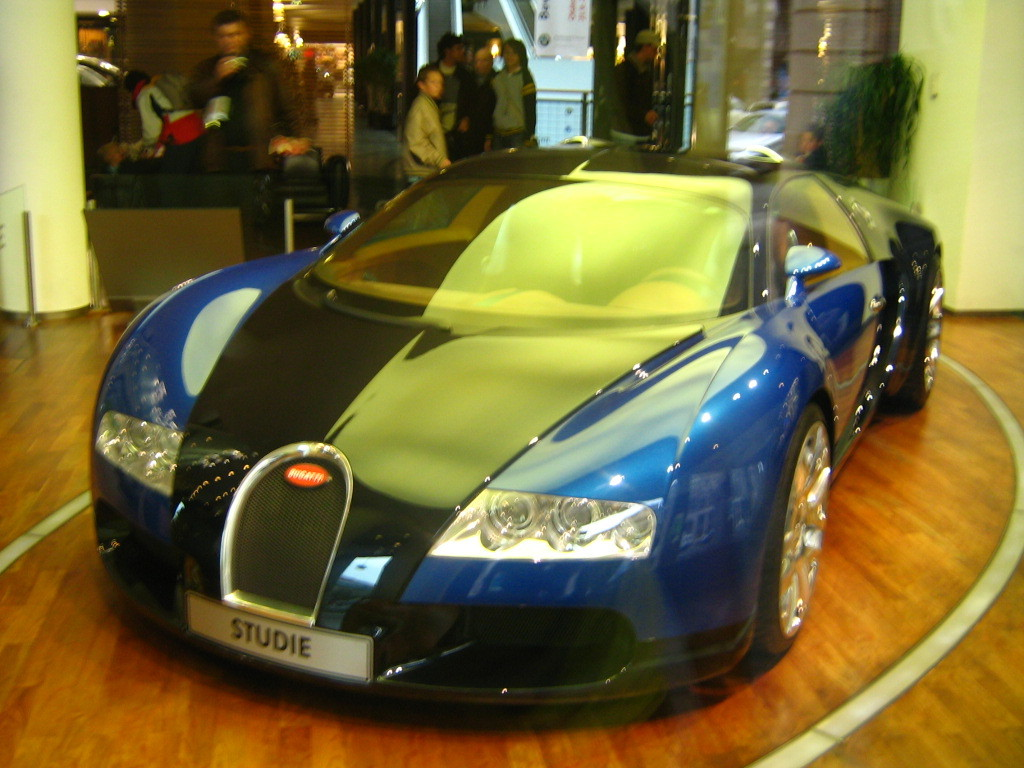person: (400, 63, 453, 188)
